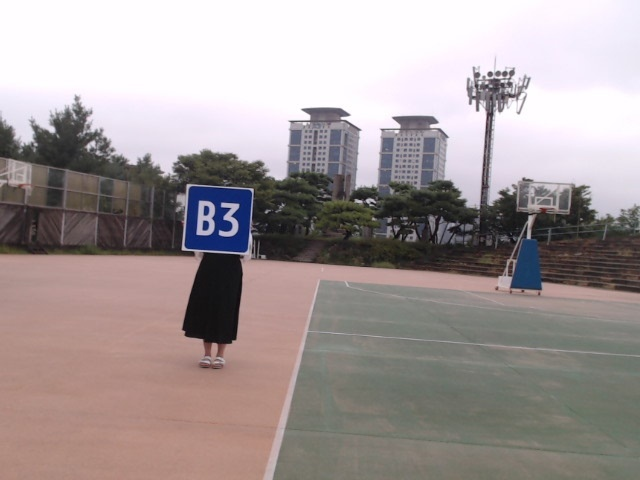delivery_b3: (184, 186, 253, 254)
